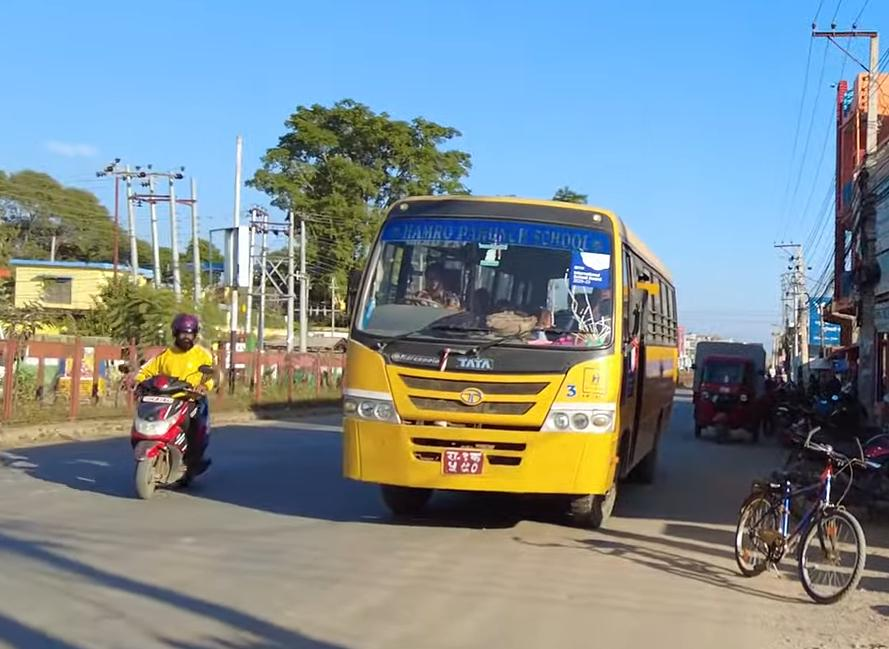auto_rickshaw: (694, 337, 769, 450)
school_bus: (336, 192, 682, 530)
scooter: (114, 357, 216, 499)
